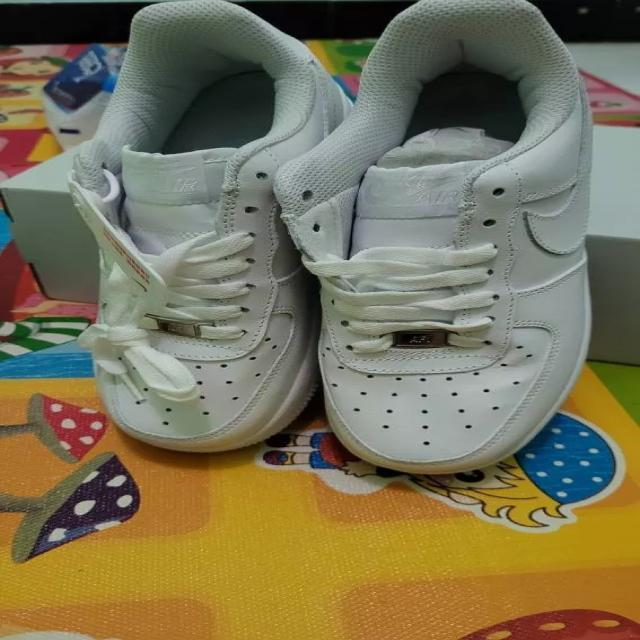nike original air force: (278, 4, 604, 478), (63, 0, 342, 456)
